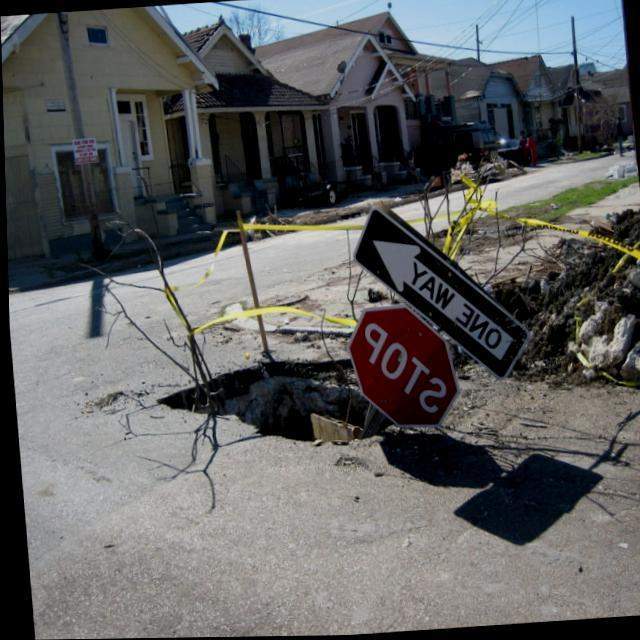Pothole: (155, 358, 393, 446)
